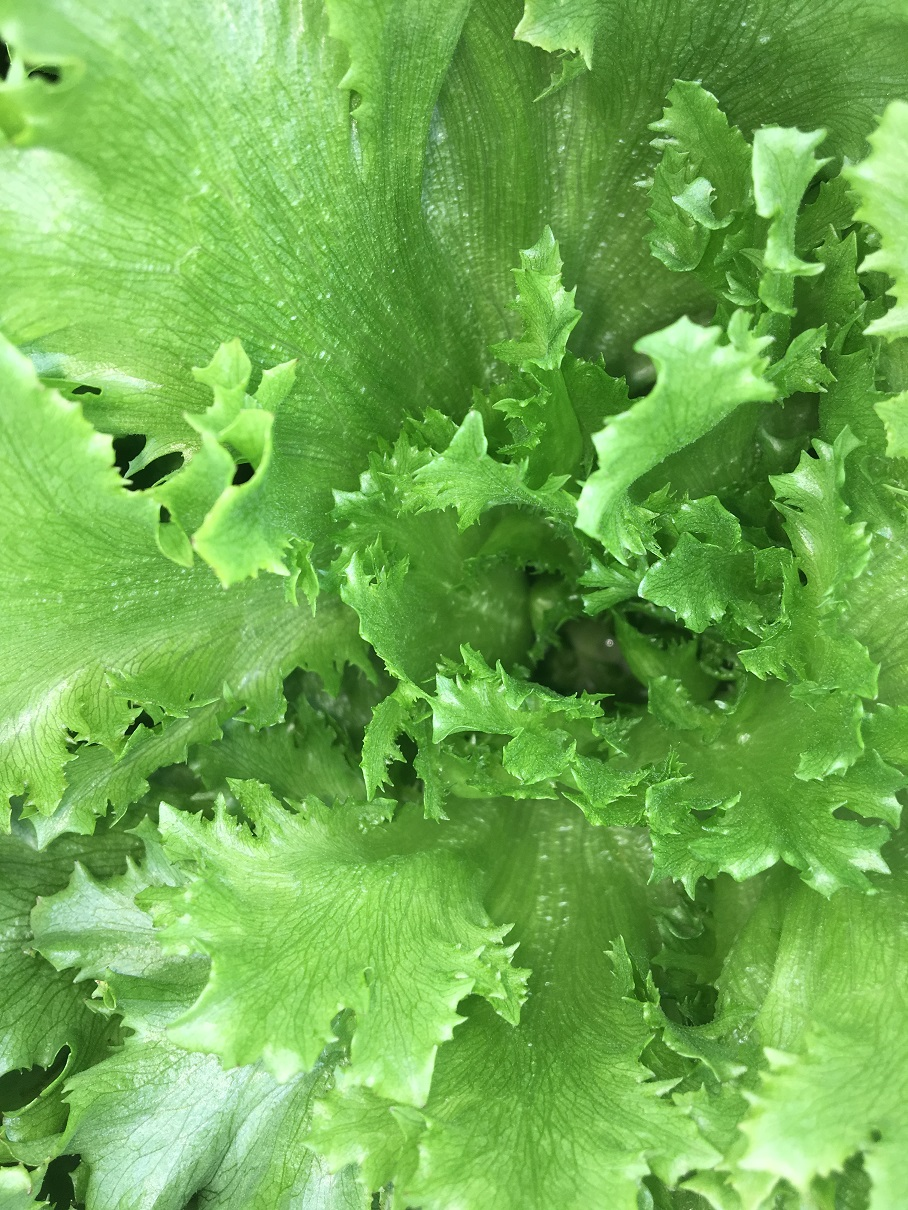tipburn: (77, 961, 126, 1005), (162, 523, 208, 554)
